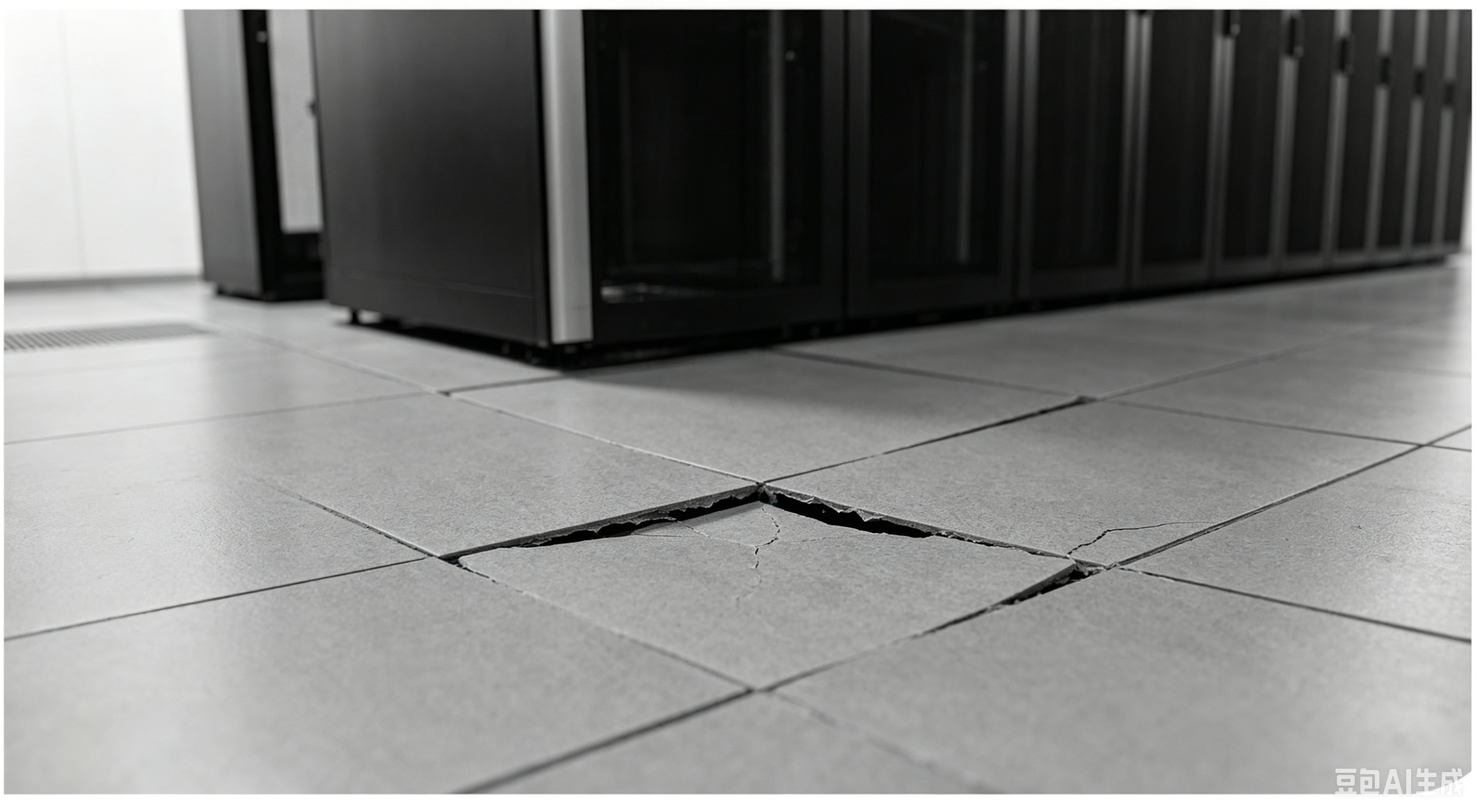floor_defect: (431, 481, 1098, 709), (998, 366, 1120, 435), (1095, 513, 1208, 550)
